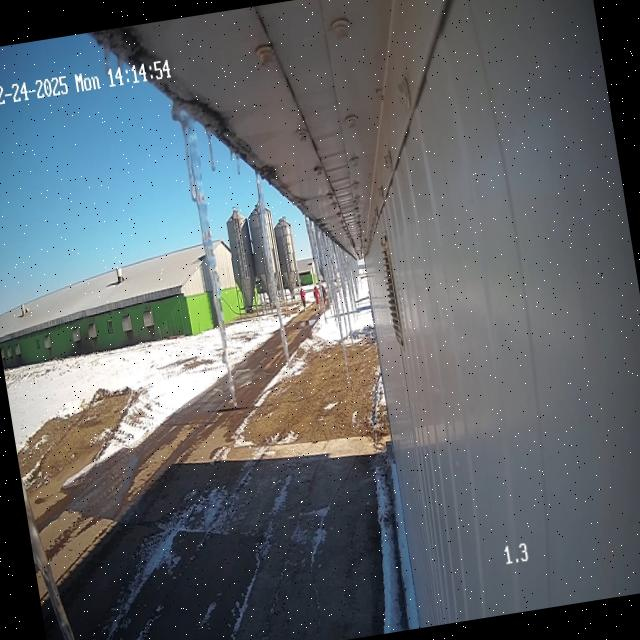Red uniform: (313, 285, 320, 309), (322, 285, 329, 309), (300, 286, 306, 309)
